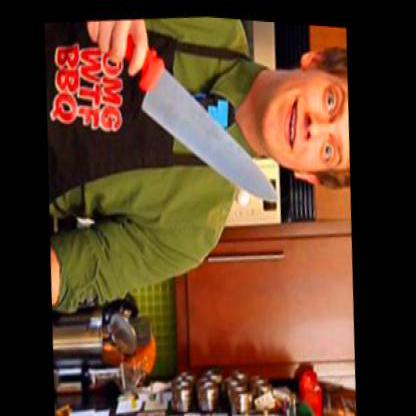knife: (93, 6, 293, 221)
